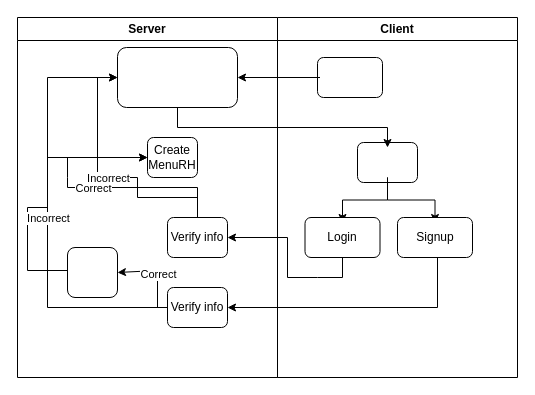
Image size: 535x395. Some labels were removed from this diagram. Here are the shapes that lost their labels. From the top down, the centre of each, then its label:
(x=177, y=77): create LoginRH
(x=349, y=77): Connect
(x=387, y=162): Login Or signup?
(x=92, y=272): Save Login Info
